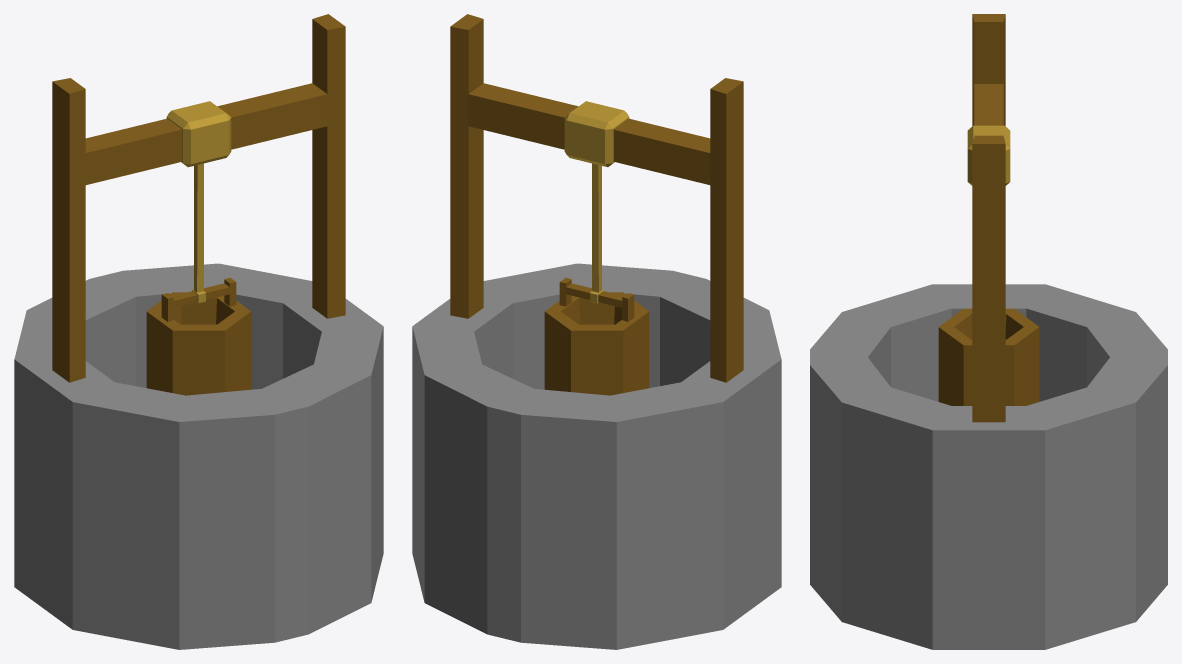
Rendered from Puits.fbx.
3 renders of one model, left to right at view 1: azimuth 30°, elevation 25°; view 2: azimuth 150°, elevation 25°; view 3: azimuth 270°, elevation 25°, orthographic. The views are drawn at different scales.
Visible parts, largest first — view 1: Puits; view 2: Puits; view 3: Puits.
Boxes of the visible parts, box(x1,y1,x2,y2) form: Puits: box(14, 14, 383, 649); Puits: box(412, 14, 781, 649); Puits: box(810, 14, 1167, 649).
Bounding box in the file's own units: 550 × 874 × 569.
